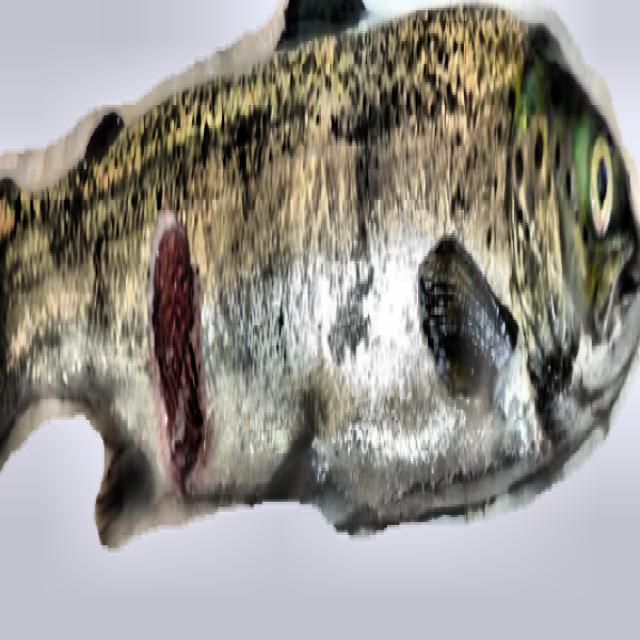mild_red: (0, 0, 555, 532)
wound: (147, 207, 207, 504)
